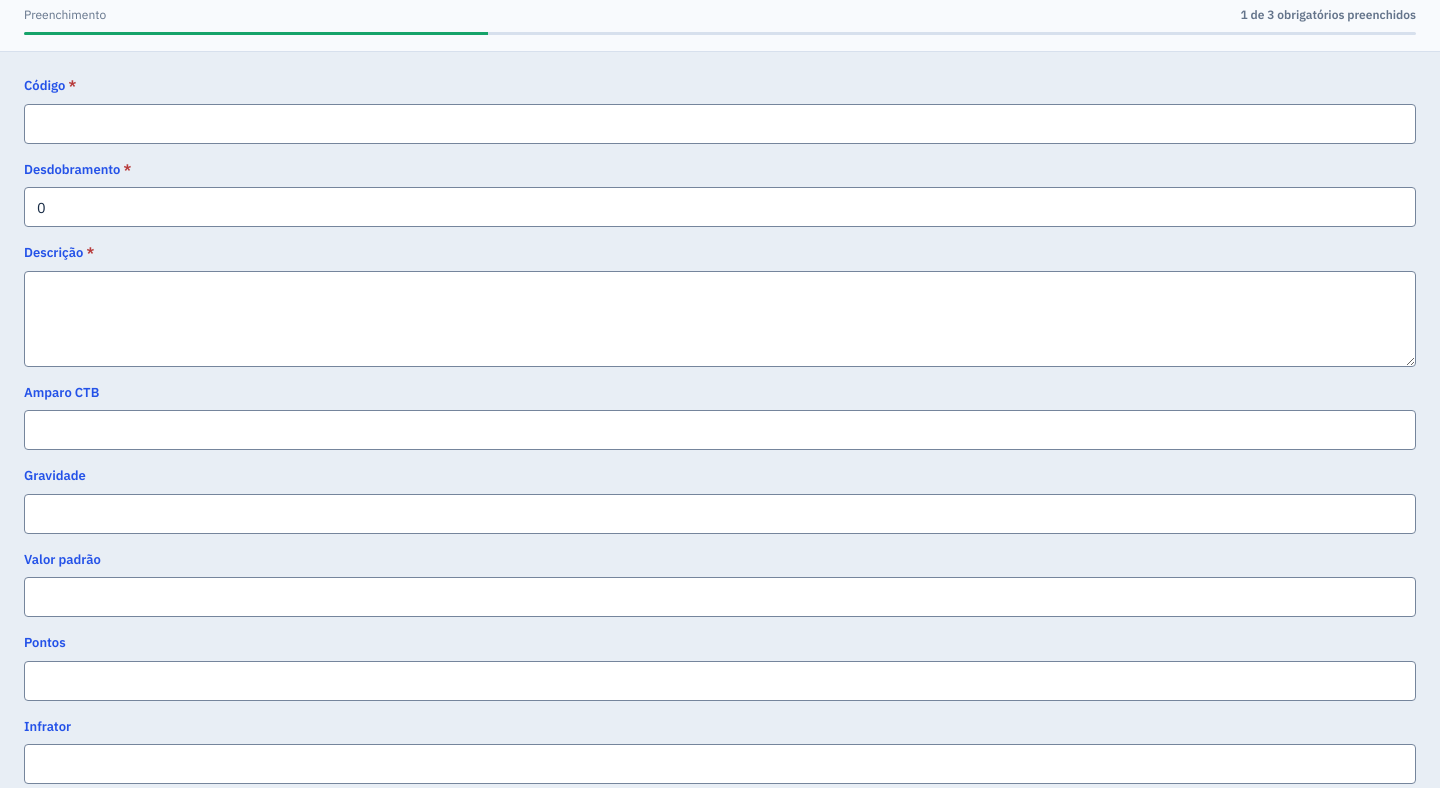
it: FineInfractionsCatalog › normaliza o cadastro e não envia o identificador interno no payload
This screenshot has width=1440, height=788.
In the field labelled "Código": (720, 124) 24,104 -> 1416,144, type " 7455 "
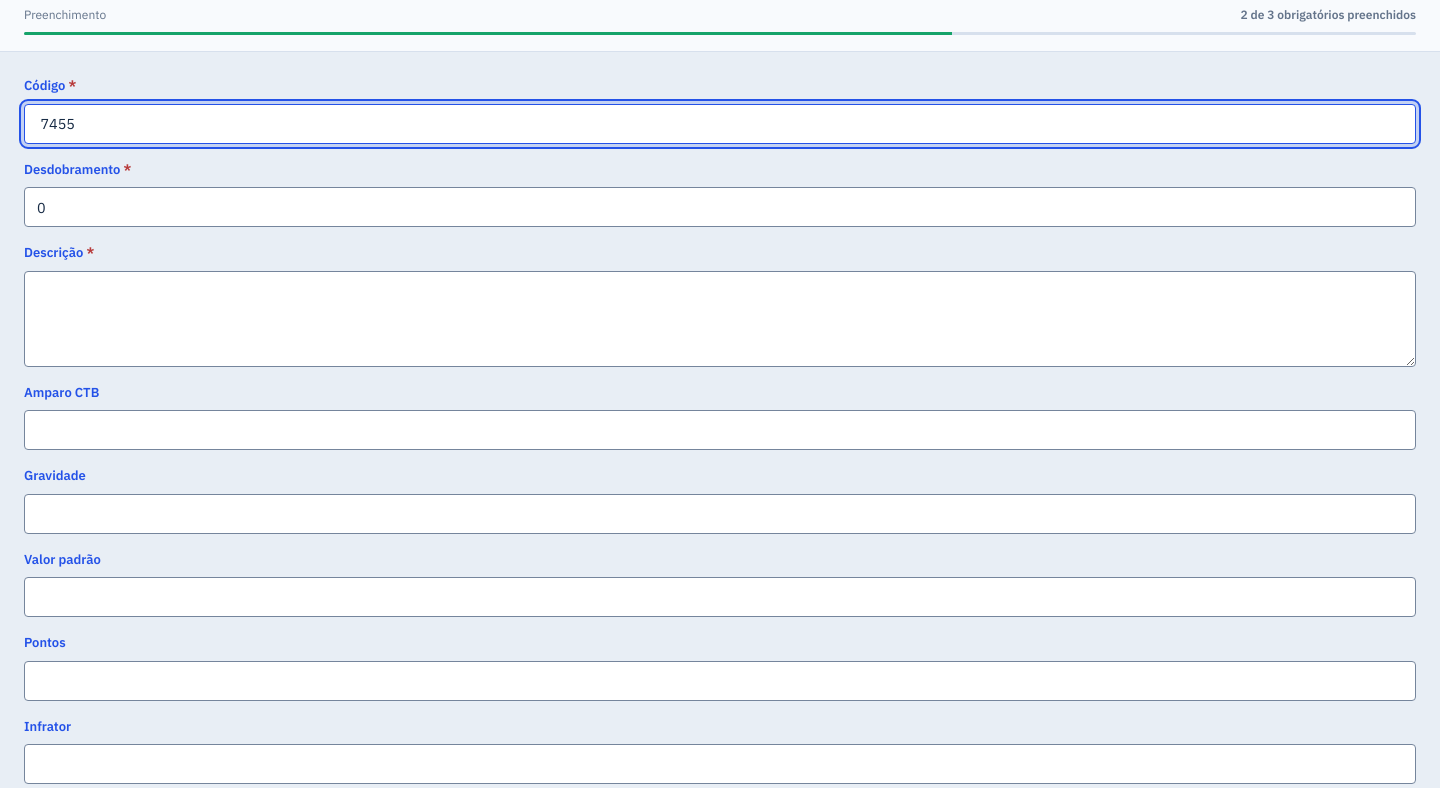
Replace the text in the field labelled "Desdobramento" with " 1 ": (720, 207) 24,187 -> 1416,227
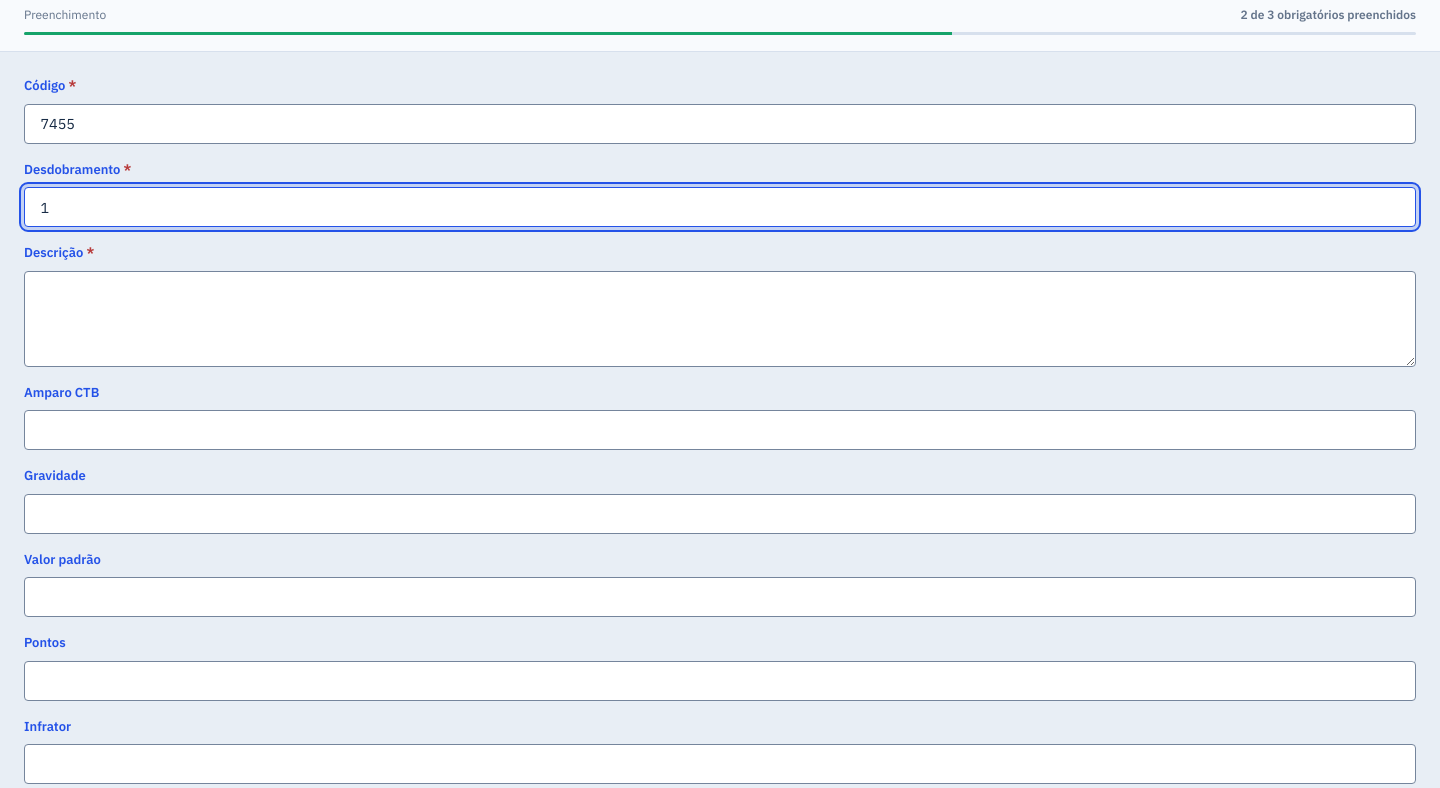
In the text box labelled "Descrição": (720, 318) 24,270 -> 1416,366, type "  Infração de teste válida  "
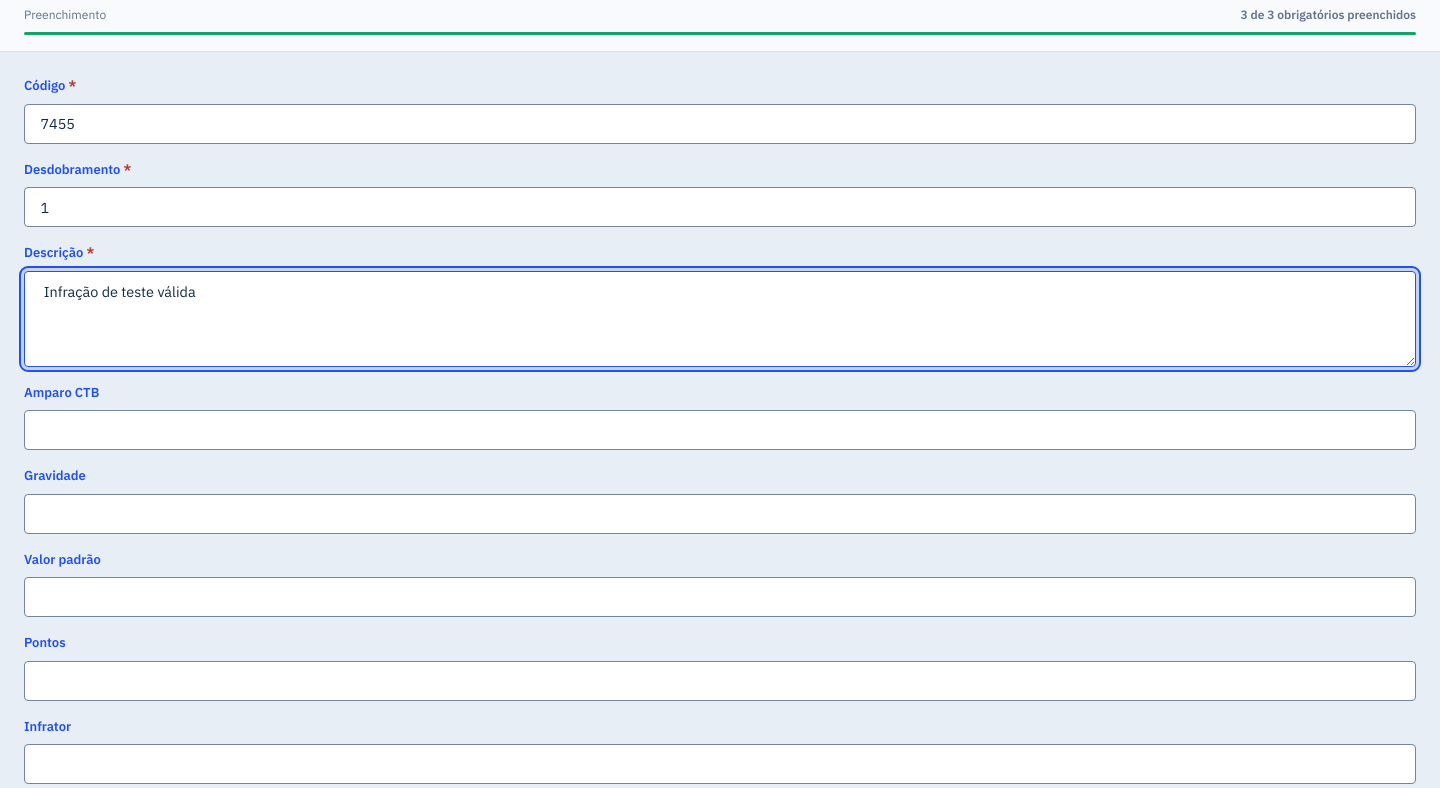
In the field labelled "Valor padrão": (720, 597) 24,577 -> 1416,617, type "195.23"
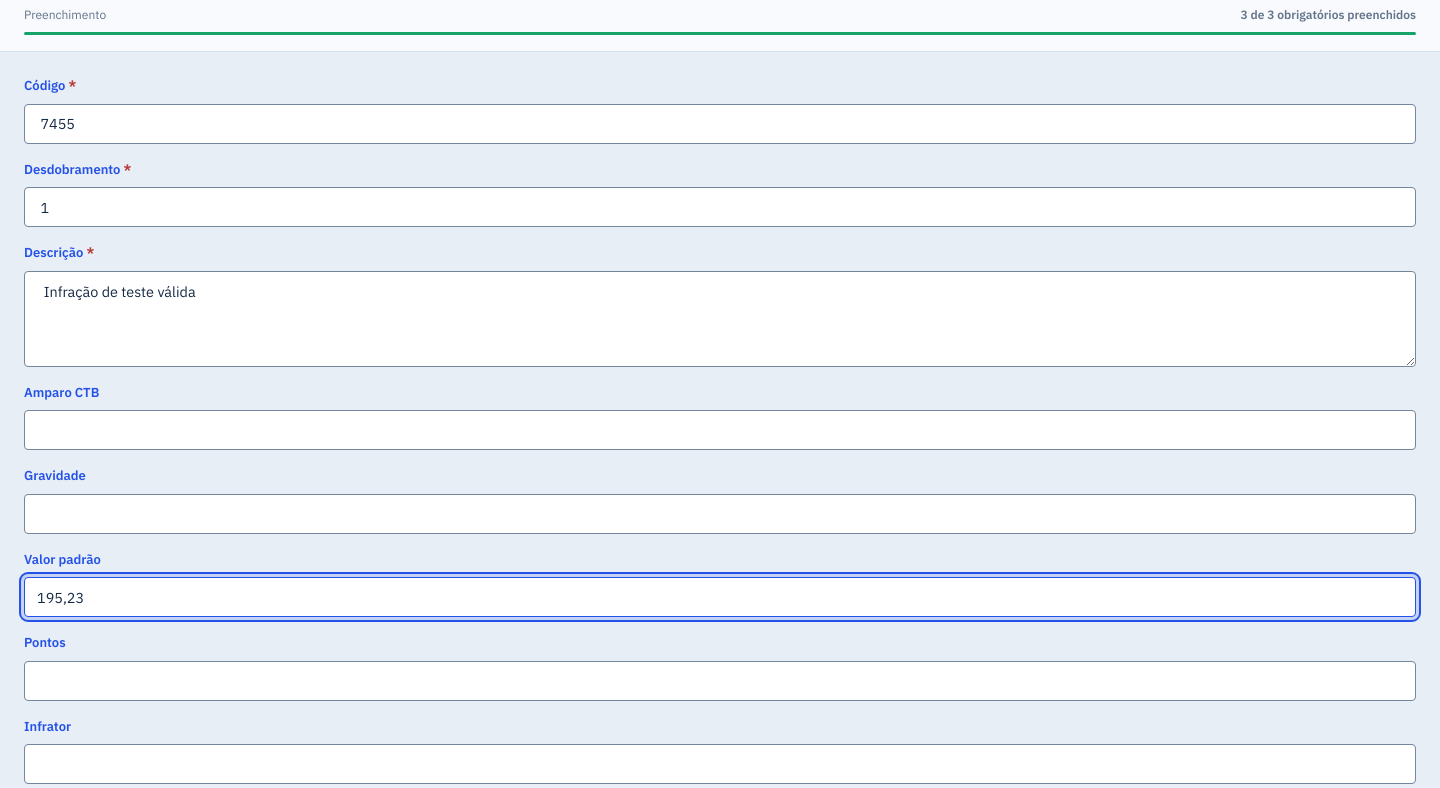
In the number field labelled "Pontos": (720, 680) 24,660 -> 1416,700, type "5"
(page scrolled)
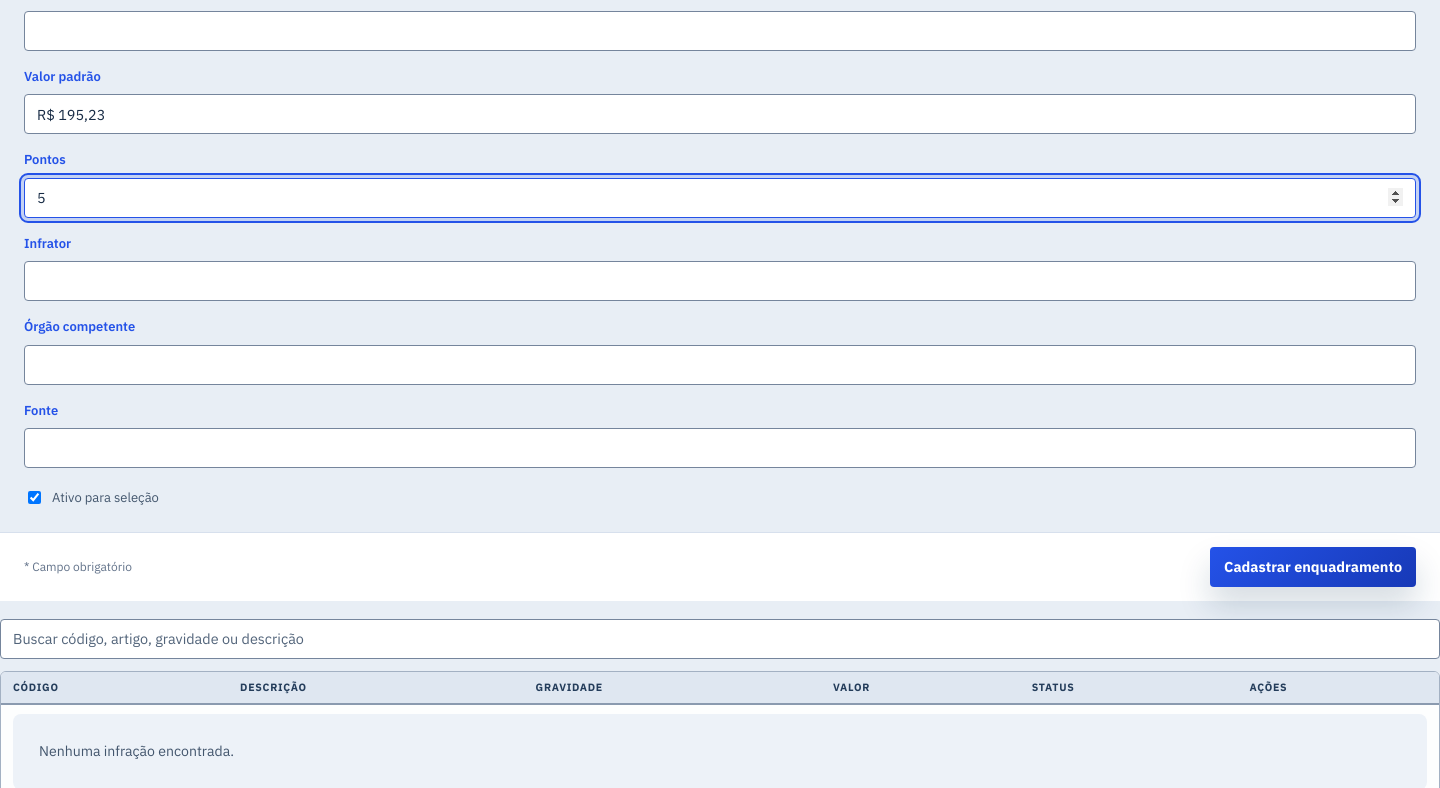
Click the button "Cadastrar enquadramento": (1313, 566) 1210,546 -> 1416,586
(page scrolled)
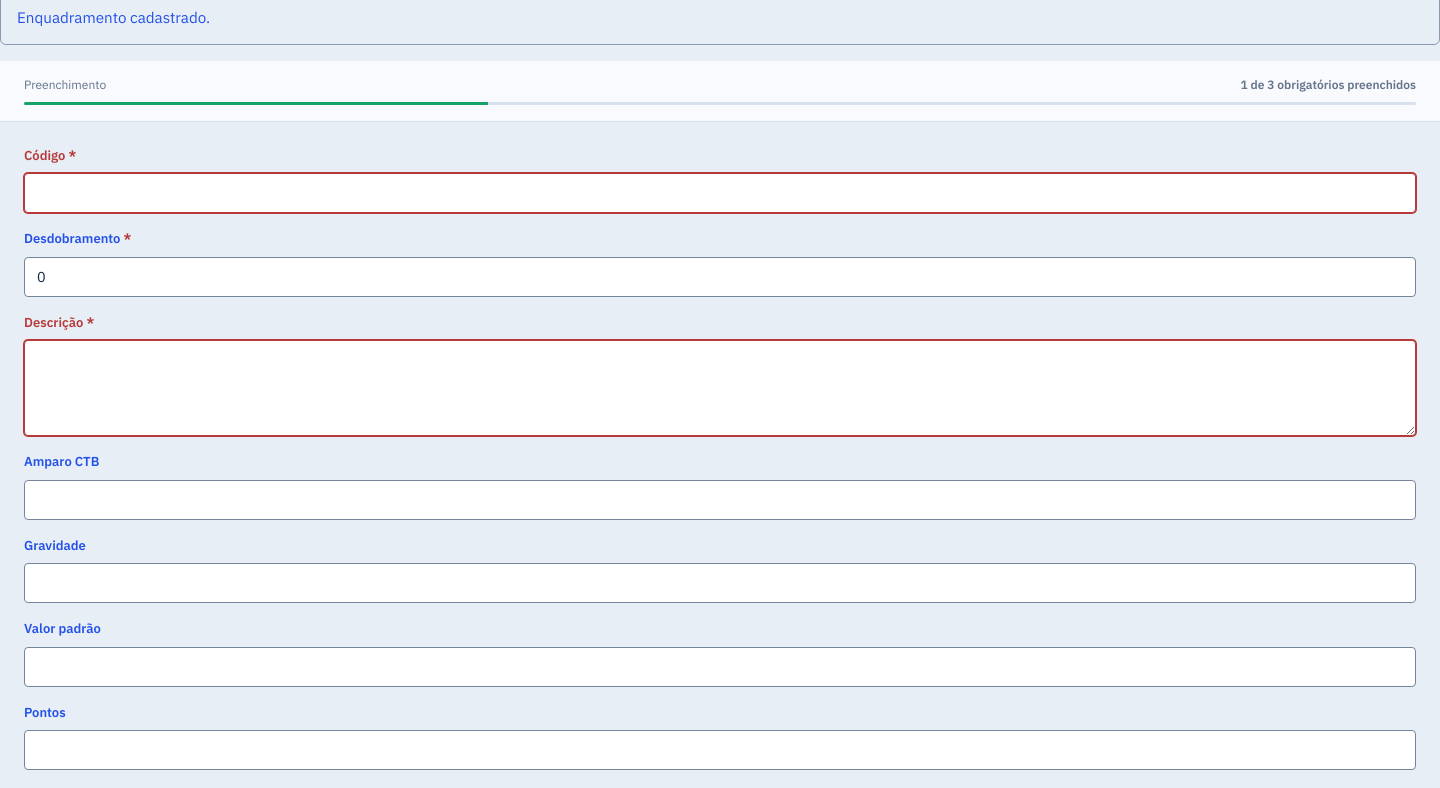
Expected: the message reads "Enquadramento cadastrado.", 17,7 -> 210,27
